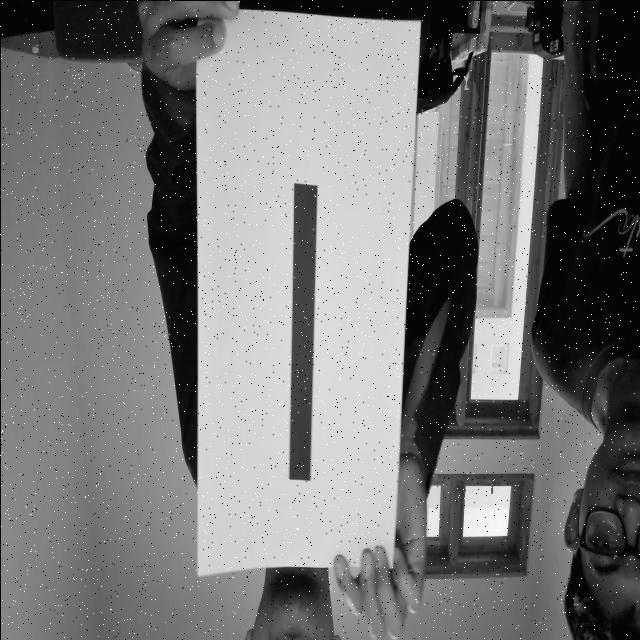i: (264, 164, 330, 490)
